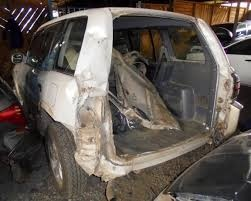Broken-glass: (75, 89, 103, 162)
Smashed: (75, 13, 242, 179)
